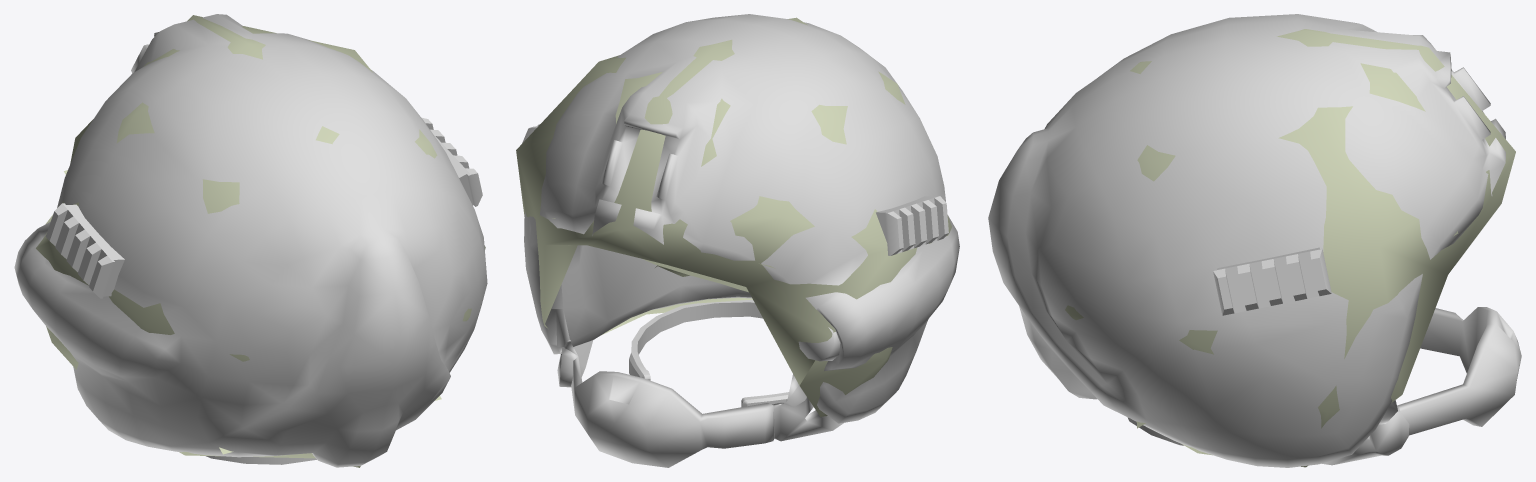
File: Headgear_Example_item.fbx
3 renders of one model, left to right at view 1: azimuth 30°, elevation 25°; view 2: azimuth 150°, elevation 25°; view 3: azimuth 270°, elevation 25°, orthographic. The views are drawn at different scales.
Visible parts, largest first — view 1: Object_LOD0, UTM_Object; view 2: Object_LOD0, UTM_Object; view 3: Object_LOD0, UTM_Object.
Boxes of the visible parts, left/top/right/bottom form: Object_LOD0: left=14, top=14, right=487, bottom=467; UTM_Object: left=36, top=15, right=485, bottom=467; Object_LOD0: left=522, top=14, right=959, bottom=467; UTM_Object: left=516, top=17, right=951, bottom=416; Object_LOD0: left=988, top=14, right=1521, bottom=467; UTM_Object: left=1065, top=29, right=1515, bottom=467.
Size of what is drawn, in the model's own units: 24.62 by 21.65 by 27.54.
